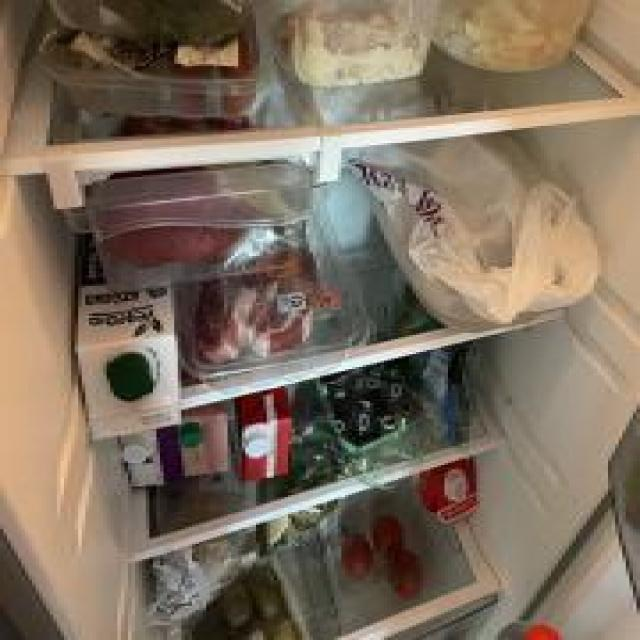avocado: (338, 390, 388, 438)
bread: (151, 495, 247, 612)
milk: (71, 280, 189, 435), (234, 396, 298, 490)
salad: (386, 294, 492, 444)
tomato: (340, 534, 375, 580), (372, 514, 404, 561), (393, 554, 421, 600)
